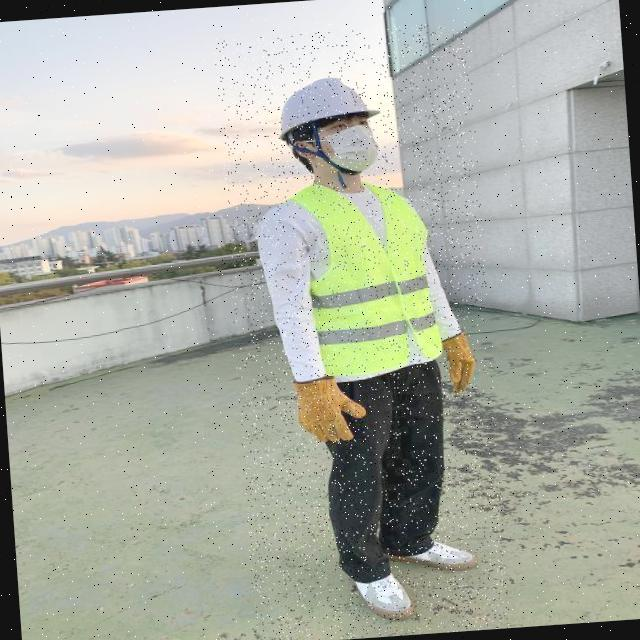boots: (382, 538, 478, 576), (351, 571, 417, 623)
helmet: (276, 74, 381, 142)
vest: (284, 176, 442, 379)
